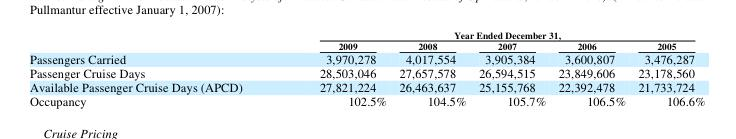table: (28, 29, 704, 108)
table column: (28, 29, 280, 108), (280, 29, 392, 108), (471, 29, 551, 108), (551, 29, 631, 108), (392, 29, 471, 108), (631, 29, 704, 108)
table column header: (28, 29, 704, 51)
table row: (28, 93, 704, 108), (28, 51, 704, 65), (28, 65, 704, 79), (28, 79, 704, 93), (28, 29, 704, 40), (28, 40, 704, 51)
table spanning cell: (280, 29, 704, 40)
